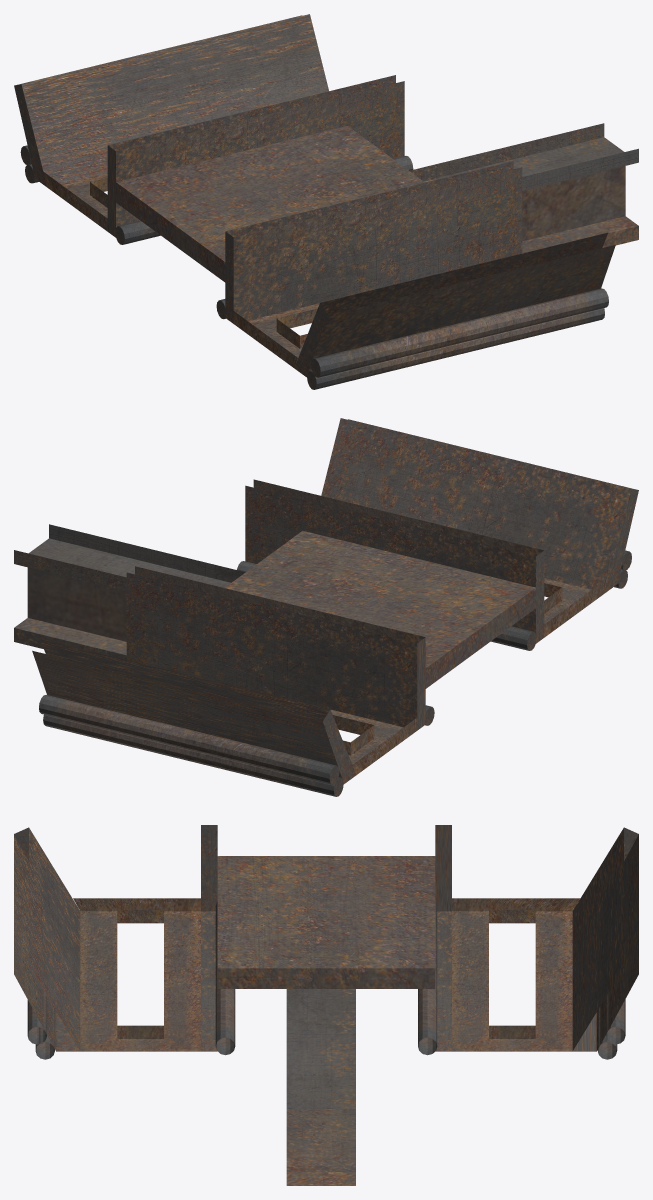
Rendered from Rail_systems.fbx.
The picture shows the model from 3 angles, top to bottom: view 1: azimuth 30°, elevation 25°; view 2: azimuth 150°, elevation 25°; view 3: azimuth 270°, elevation 25°; orthographic projection.
Parts seen in each view (by area): view 1: polySurface41; view 2: polySurface41; view 3: polySurface41.
Boxes of the visible parts, left/top/right/bottom form: polySurface41: left=14, top=14, right=638, bottom=389; polySurface41: left=14, top=418, right=638, bottom=796; polySurface41: left=14, top=825, right=638, bottom=1185.
Size of the model in its own units: 157 by 47.9 by 190.
